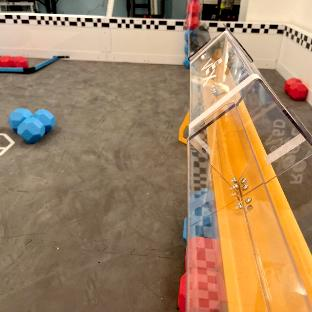Parking-R: (0, 56, 69, 74)
V5_BLUE: (9, 109, 56, 142)
V5_RED: (285, 78, 308, 99), (179, 274, 185, 312)
